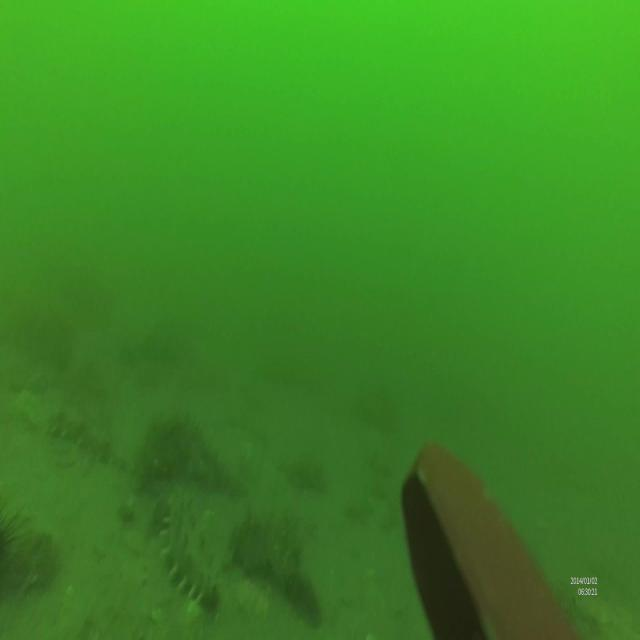echinus: (1, 485, 31, 605)
holothurian: (160, 490, 220, 611), (44, 397, 112, 465)
